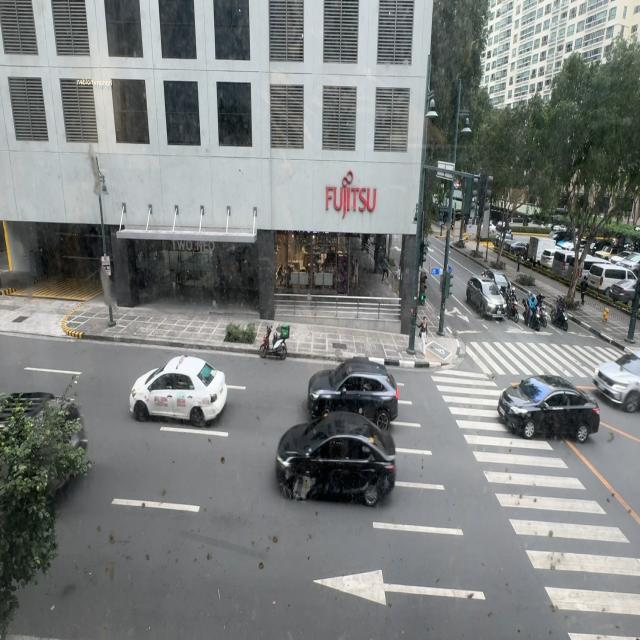pedestrain: (580, 276, 588, 304)
waiting: (417, 316, 428, 356)
